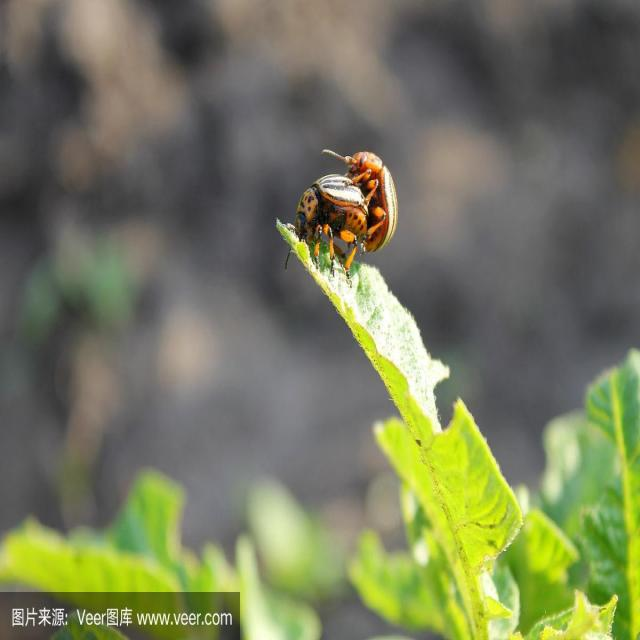ShuCaiHuaBanChong-Grown-: (295, 175, 376, 258), (358, 136, 407, 259)
